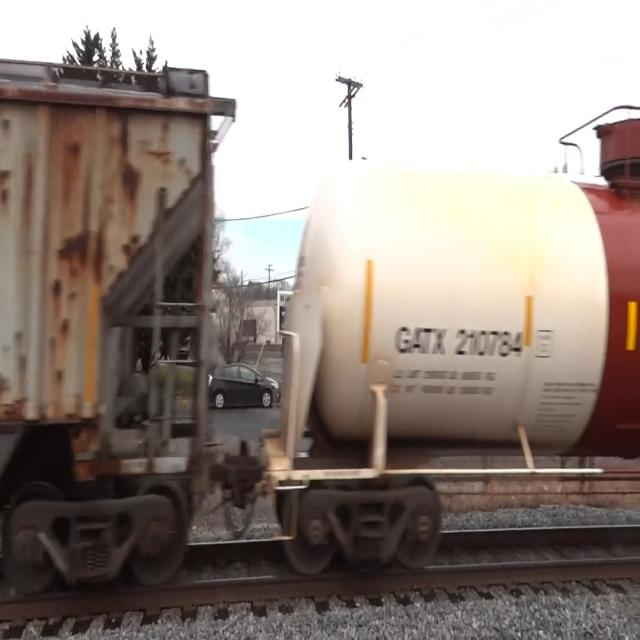hopper: (0, 8, 250, 623)
tank: (268, 123, 632, 585)
